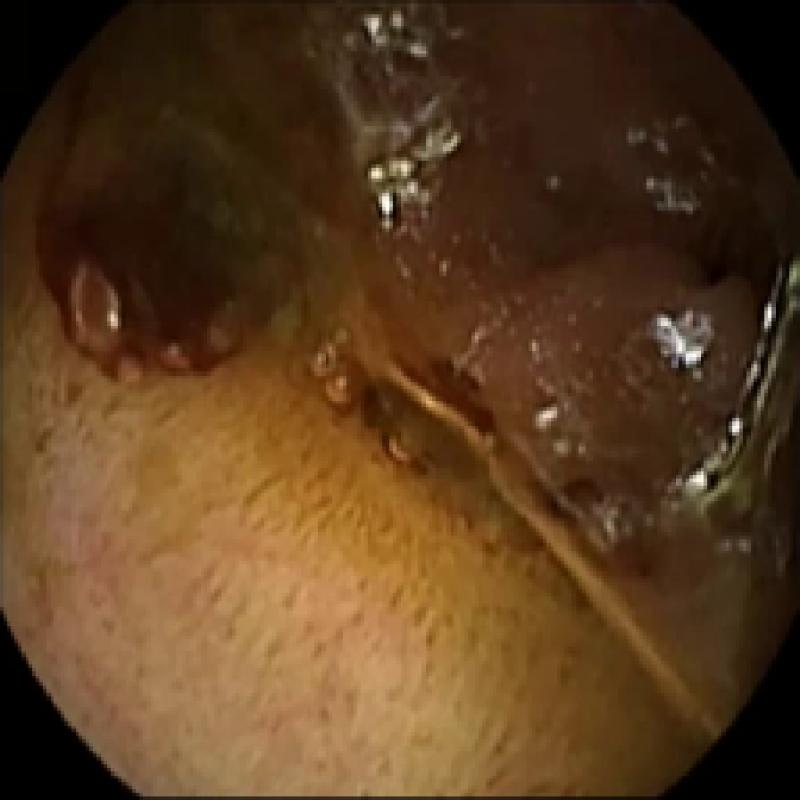bleeding: (43, 78, 253, 372), (362, 358, 499, 482)
